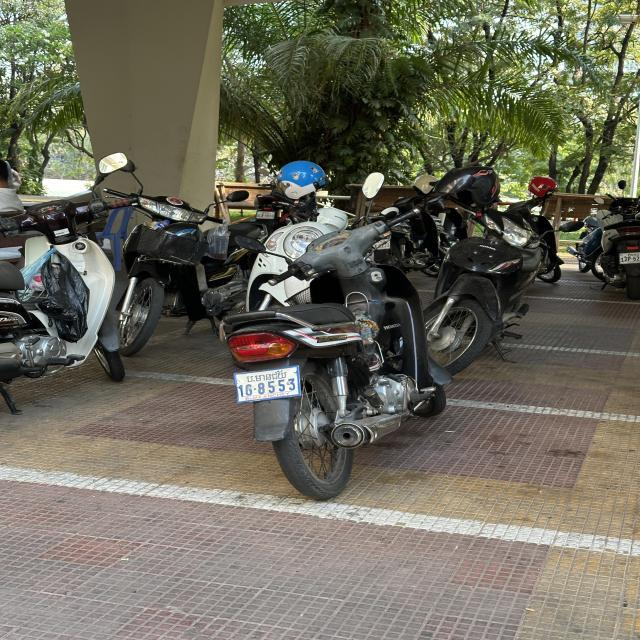Banteay_Meanchey: (246, 369, 288, 382)
